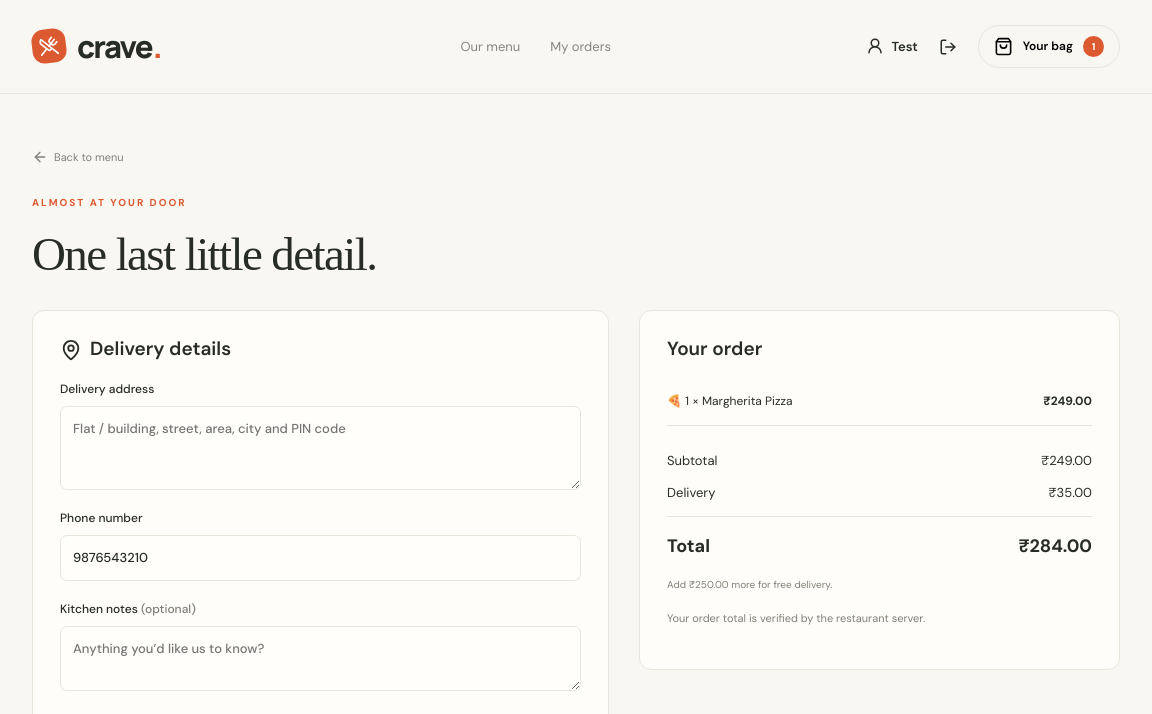
Test case: Customer ordering UI › preserves the bag when checkout fails
Expected: the heading "One last little detail." is shown, [32,228,376,280]
Step 1. Type "Flat 5, MG Road, Mumbai 400001" into the text box labelled "Delivery address" → (321, 448), box [60,406,581,490]
(page scrolled)
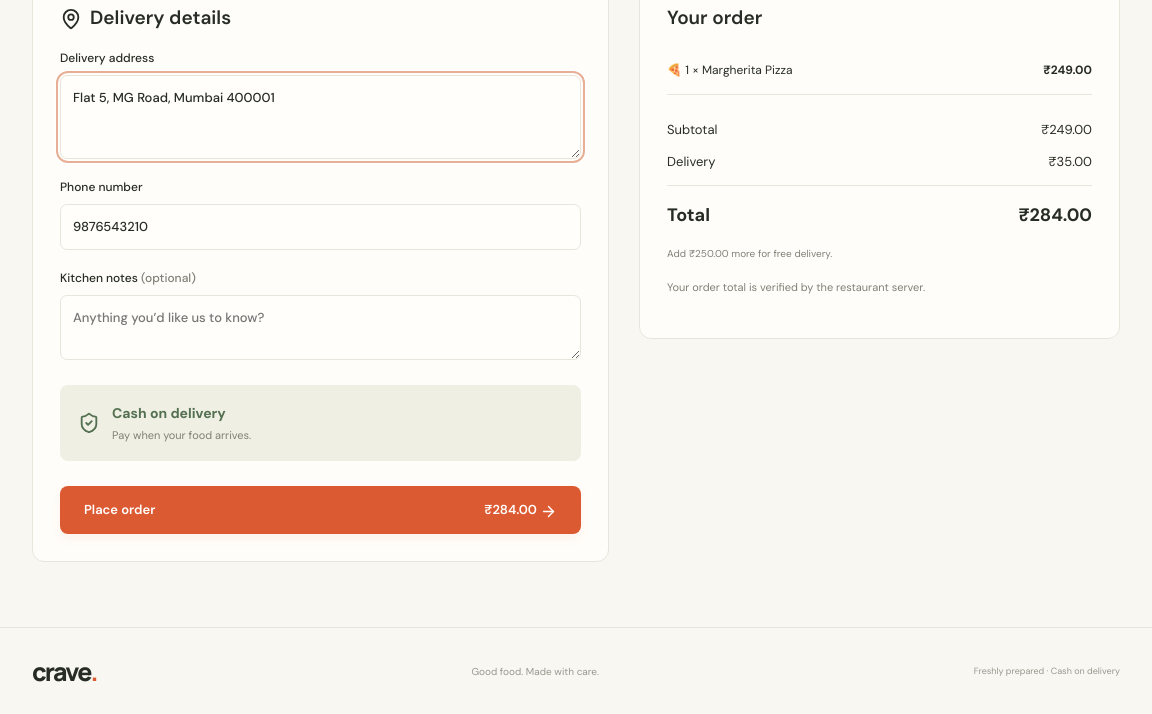
Step 2. Click the button "Place order ₹284.00" → (120, 510), box [60,486,581,534]
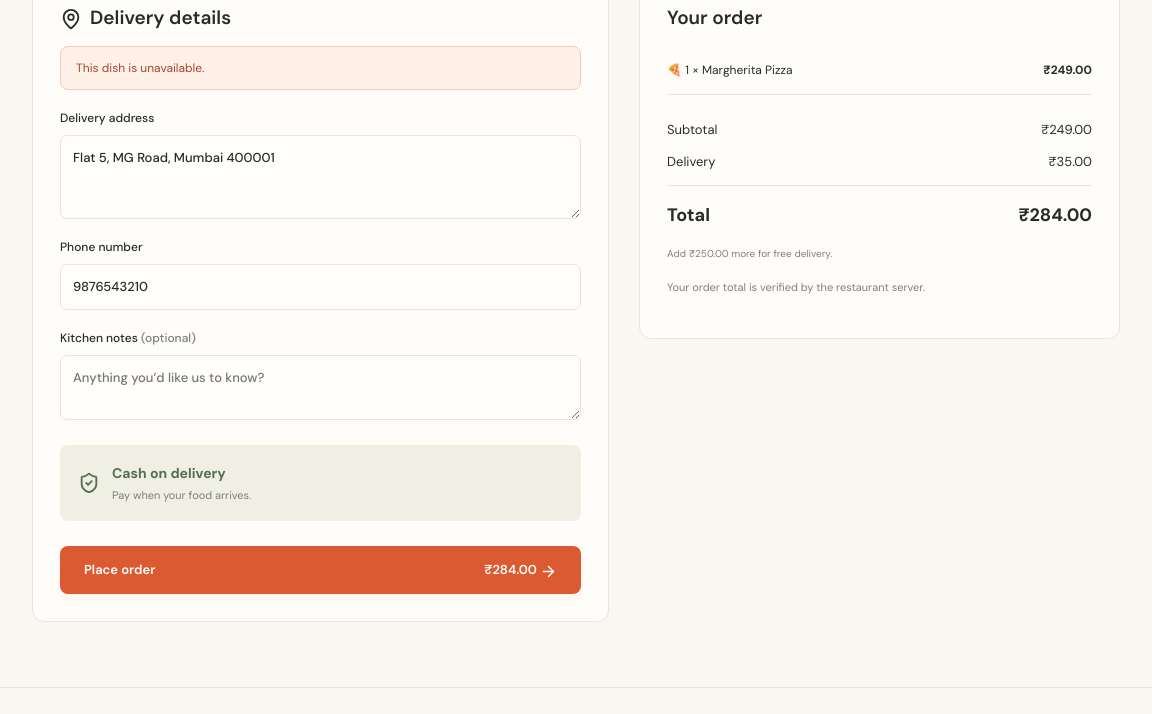
Expected: the message "This dish is unavailable." is shown, [60,46,581,90]
Expected: the message reads "This dish is unavailable.", [76,60,204,76]
